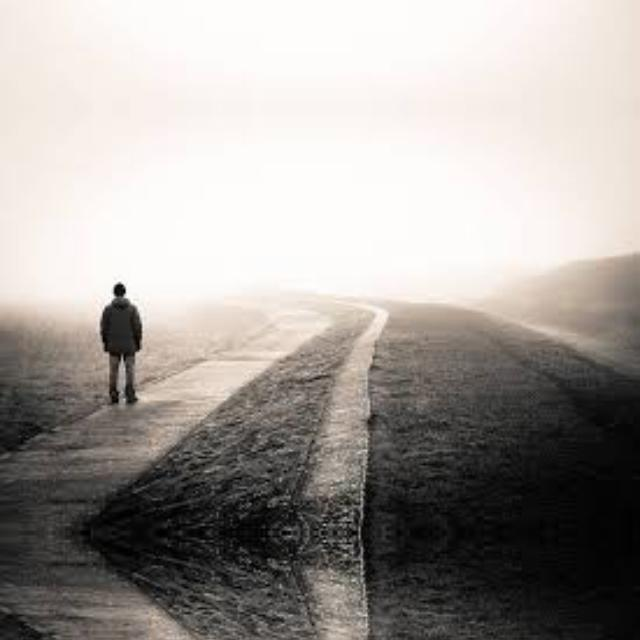person: (95, 268, 147, 408)
